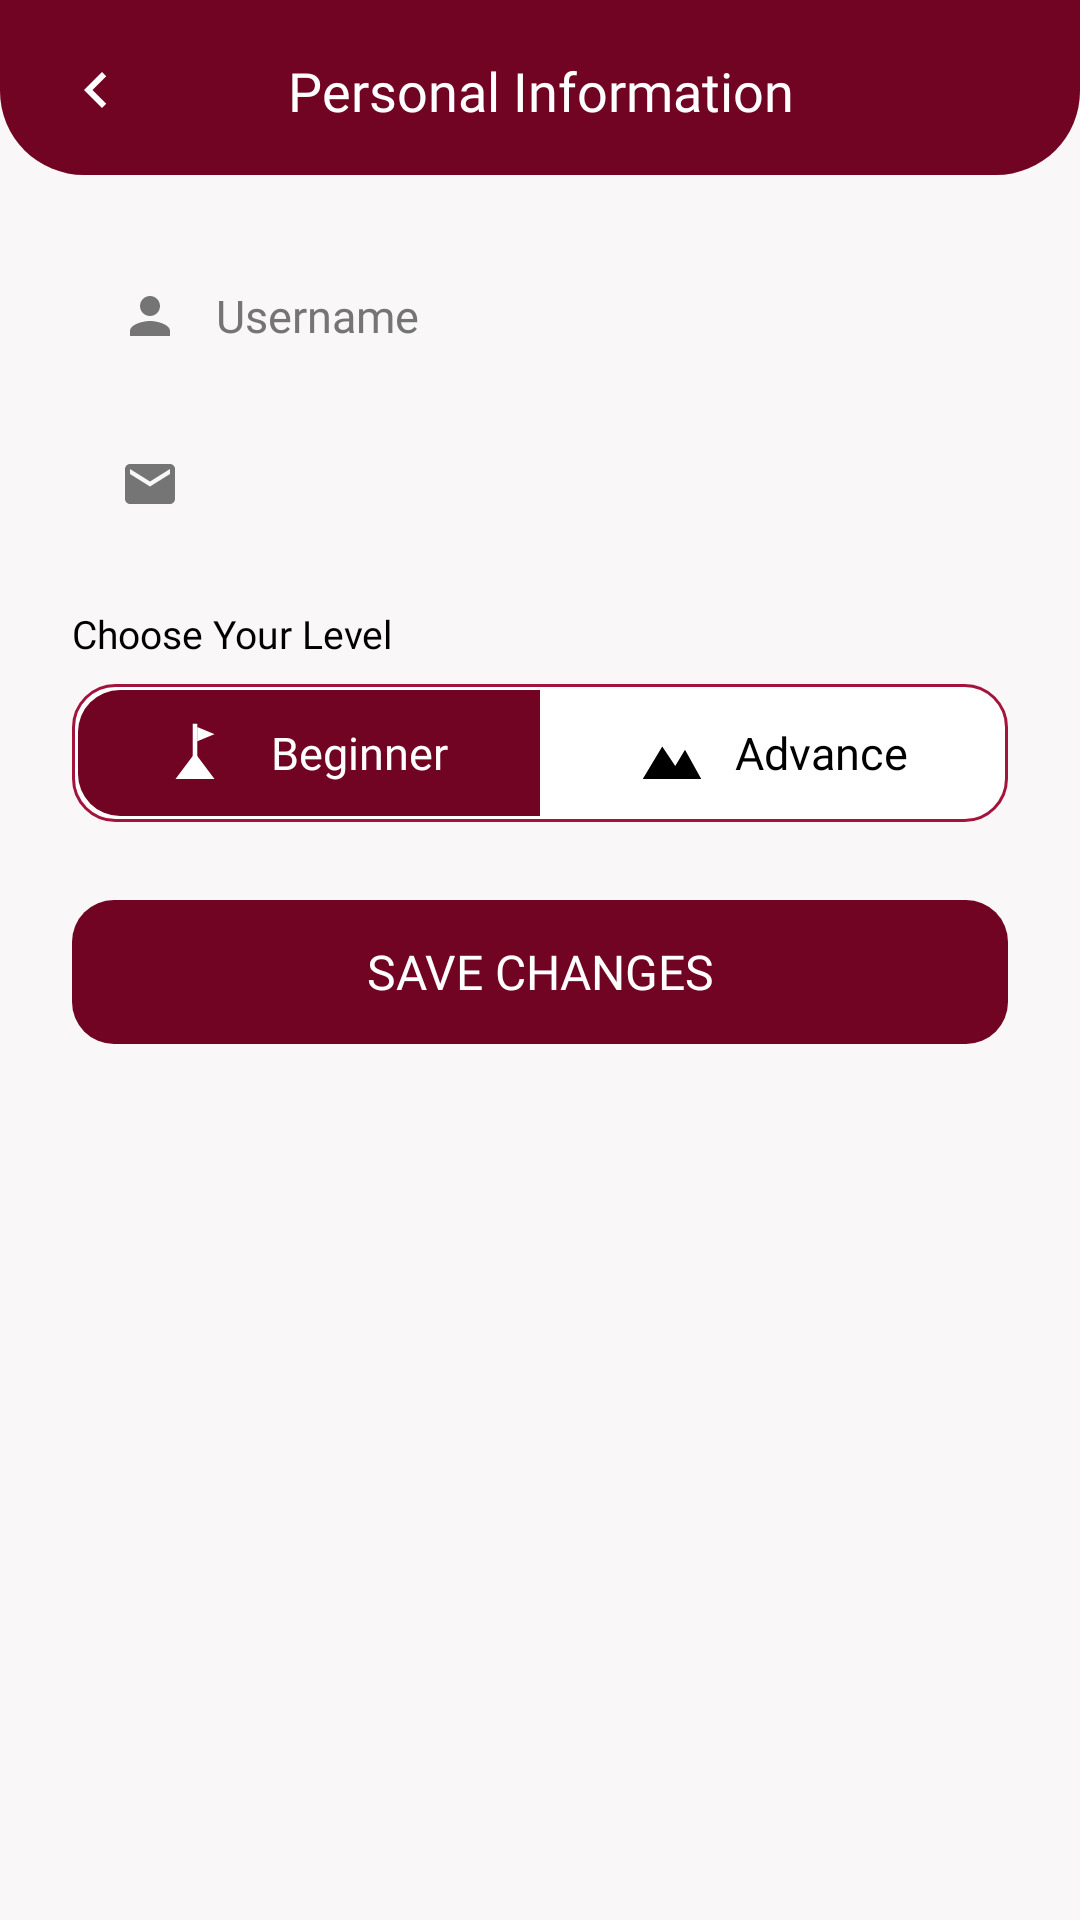

Where to tap for icons on this 1080 × 1920 app screen, as [x,y]:
Email: [150,484]
